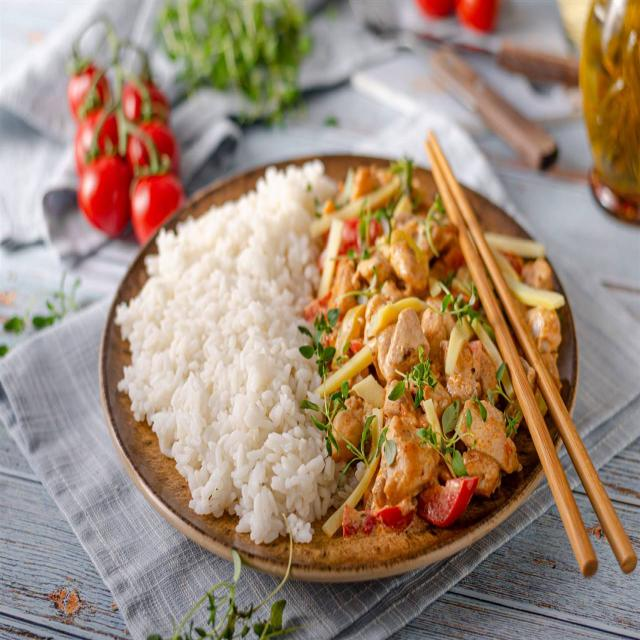arroz: (124, 176, 324, 535)
pollo: (333, 168, 529, 533)
